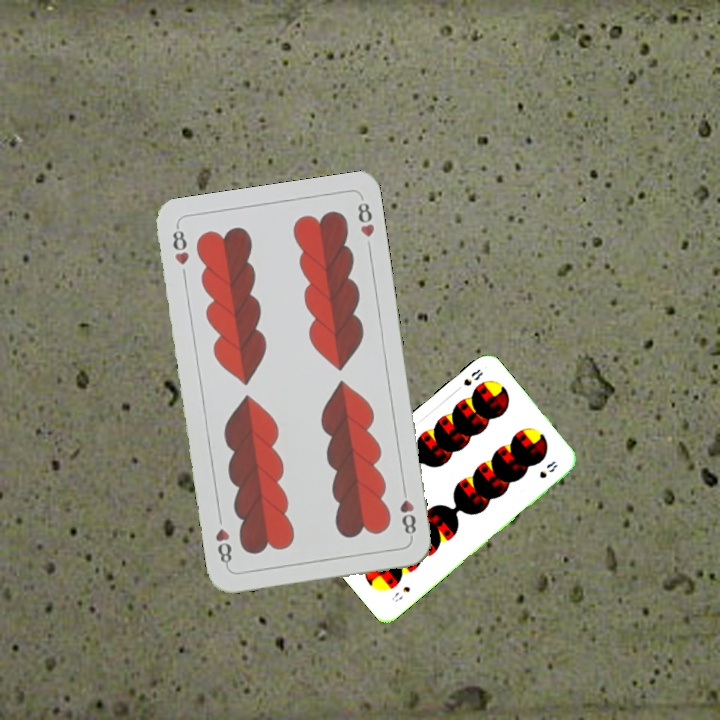H8: (396, 482, 419, 541), (168, 222, 192, 268)
S8: (459, 365, 486, 389), (387, 582, 413, 605)
